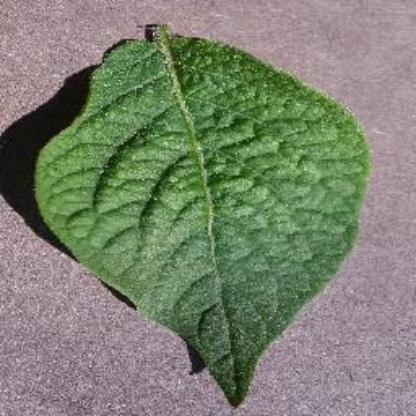Healthy-plant: (26, 18, 374, 410)
